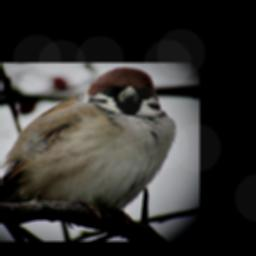Sparrow: (0, 66, 175, 238)
